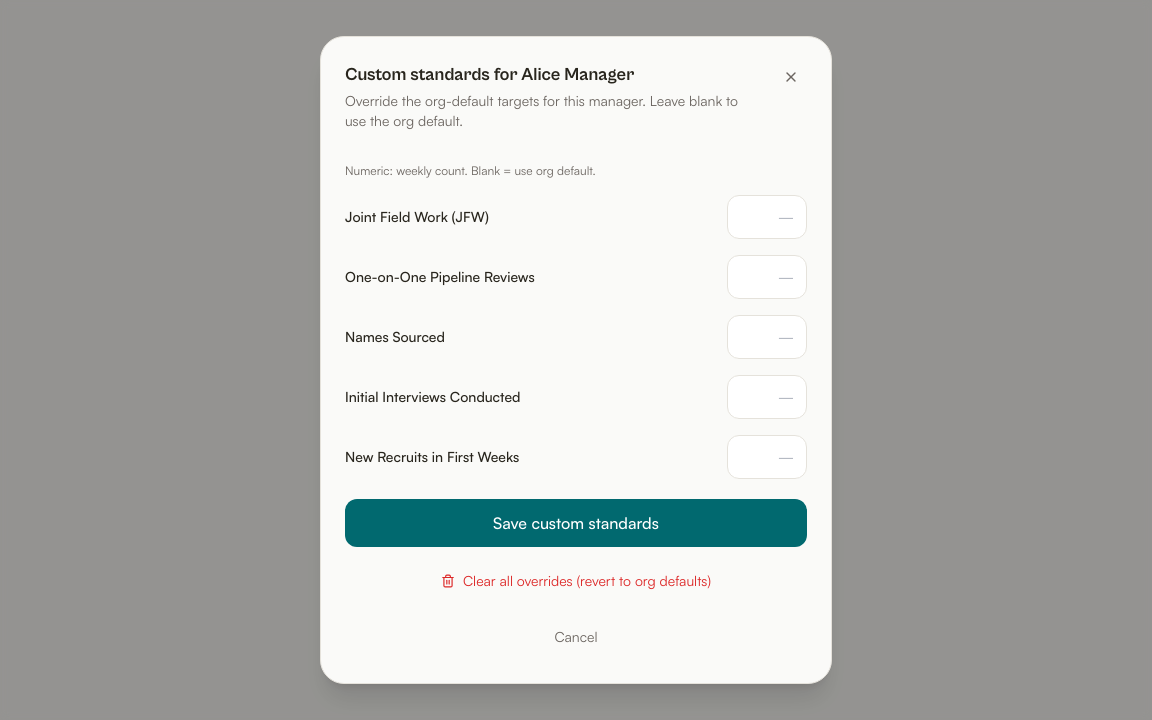
Test: ManagerOverrideModal — save › shows connectivity error message on network failure
Step 1. Click the button "Save custom standards" → [576, 523], box x1=345 y1=499 x2=807 y2=547
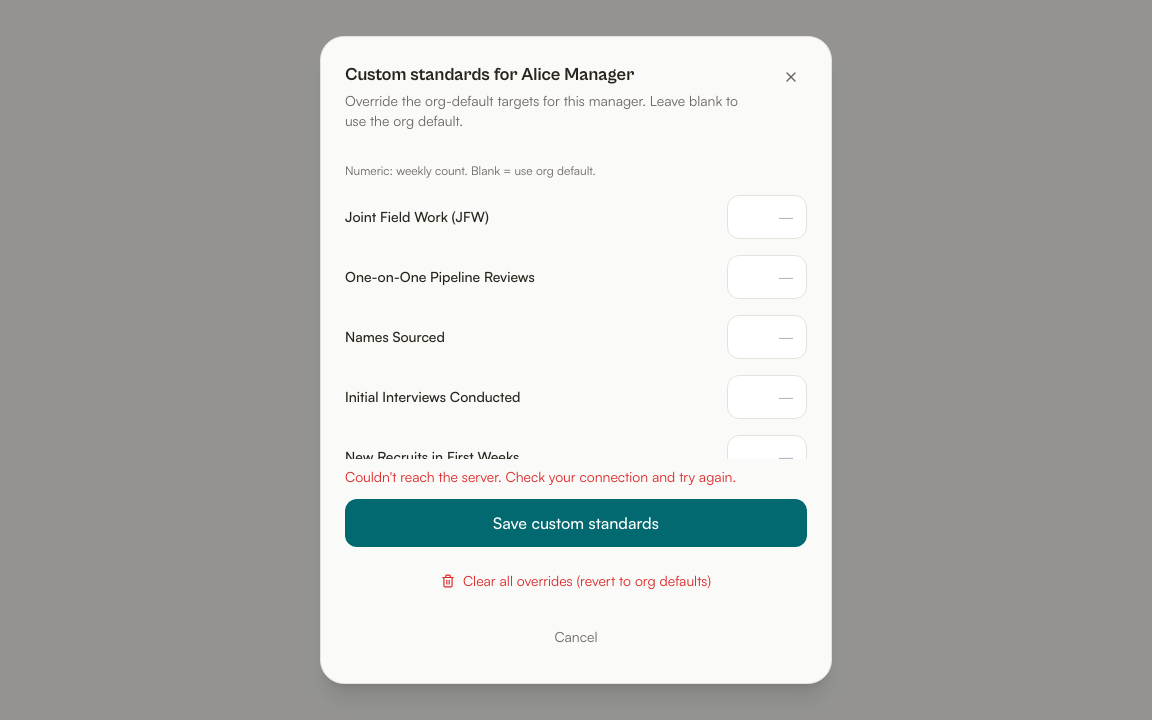
Check: the message shows "Couldn't reach the server", box x1=345 y1=468 x2=736 y2=485
